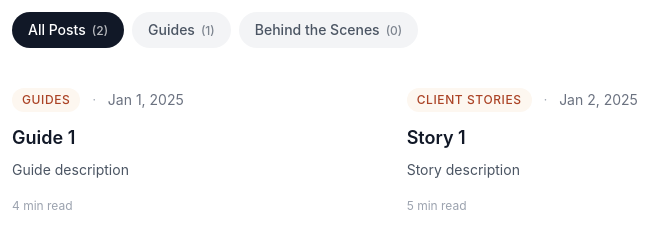
Test: BlogCategoryFilter › shows all posts by default and toggles selected category
Expected: the heading "Guide 1" is shown, x1=12 y1=127 x2=75 y2=148
Expected: the heading "Story 1" is shown, x1=407 y1=127 x2=466 y2=148
Click the button "Guides(1)".
click(181, 30)  # box x1=132 y1=12 x2=231 y2=48
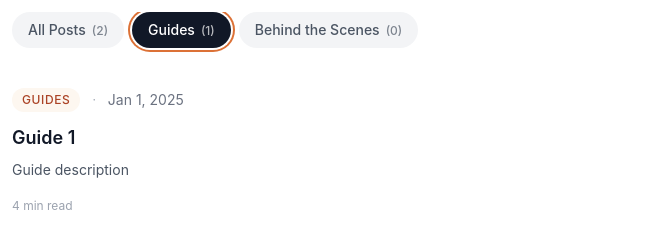
Expected: the heading "Guide 1" is shown, x1=12 y1=127 x2=75 y2=148
Result: the link "Story 1" is gone
